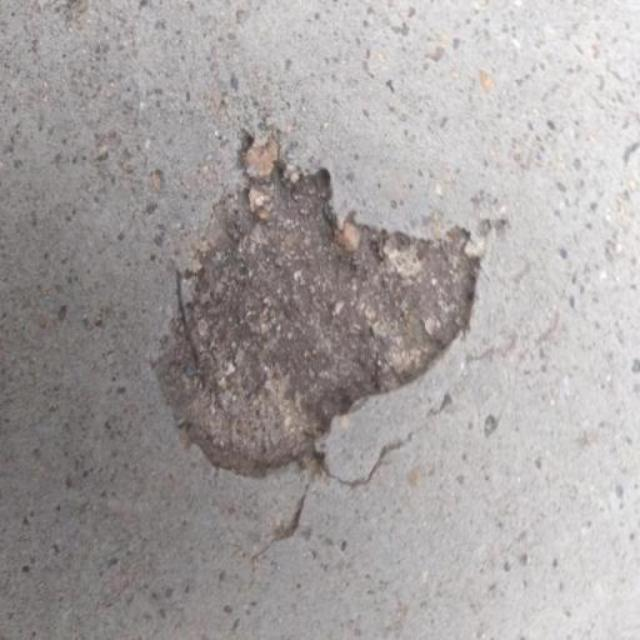D10: (154, 130, 485, 481)
